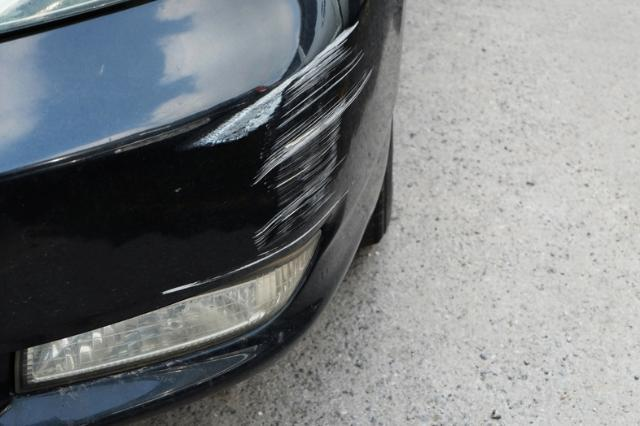Bumper: (155, 6, 368, 322)
